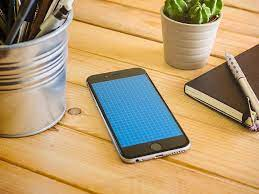Cell Phone: (85, 70, 189, 164)
